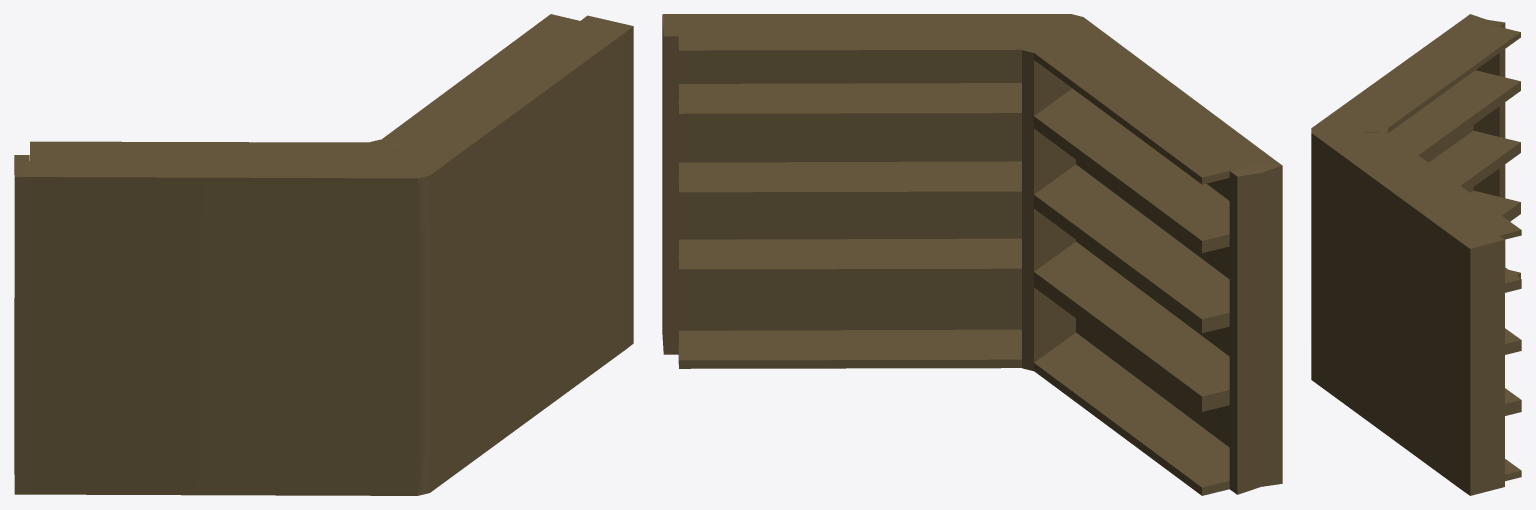
File: Bookshelf.fbx
3 renders of one model, left to right at view 1: azimuth 30°, elevation 25°; view 2: azimuth 150°, elevation 25°; view 3: azimuth 270°, elevation 25°, orthographic. The views are drawn at different scales.
Parts seen in each view (by area): view 1: Bookshelf; view 2: Bookshelf; view 3: Bookshelf.
Boxes of the visible parts, bbox=[...] form: Bookshelf: bbox=[14, 14, 633, 495]; Bookshelf: bbox=[662, 14, 1282, 495]; Bookshelf: bbox=[1311, 14, 1521, 495].
Size of the model in its own units: 409 by 201 by 155.
